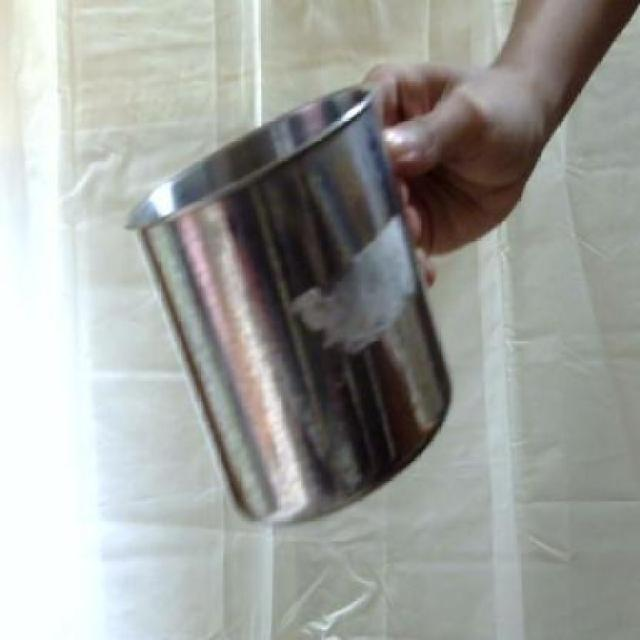Metal: (122, 82, 453, 526)
